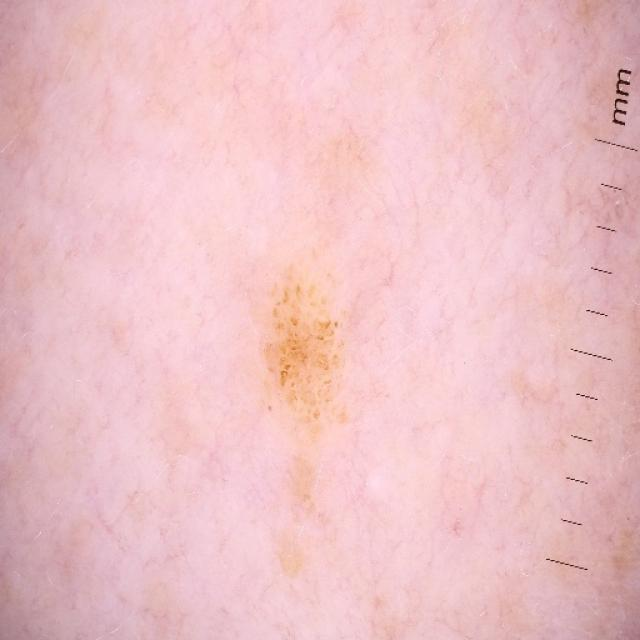Melanoma: (265, 269, 340, 419)
